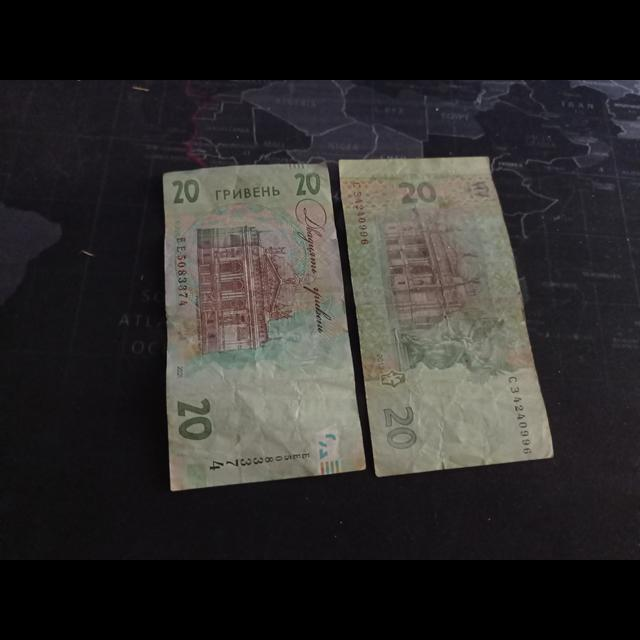20uah: (144, 169, 360, 473), (360, 158, 562, 472)
